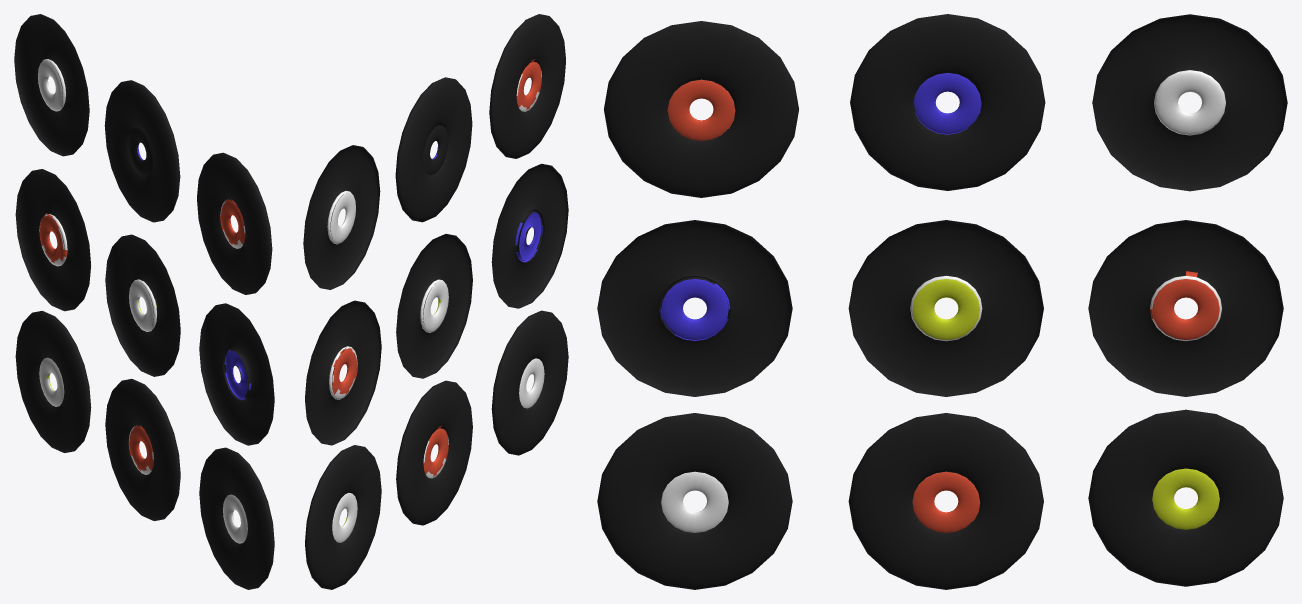
The model's file is platen.fbx.
3 renders of one model, left to right at view 1: azimuth 30°, elevation 25°; view 2: azimuth 150°, elevation 25°; view 3: azimuth 270°, elevation 25°, orthographic. The views are drawn at different scales.
Visible parts, largest first — view 1: pTorus3.003; view 2: pTorus3.003; view 3: pTorus3.003.
Part boxes in pixels (box(x1,y1,x2,y2)): pTorus3.003: box(14, 14, 274, 589); pTorus3.003: box(303, 14, 568, 589); pTorus3.003: box(597, 14, 1287, 589).
Bounding box in the file's own units: 30.9 × 1081 × 1174.
